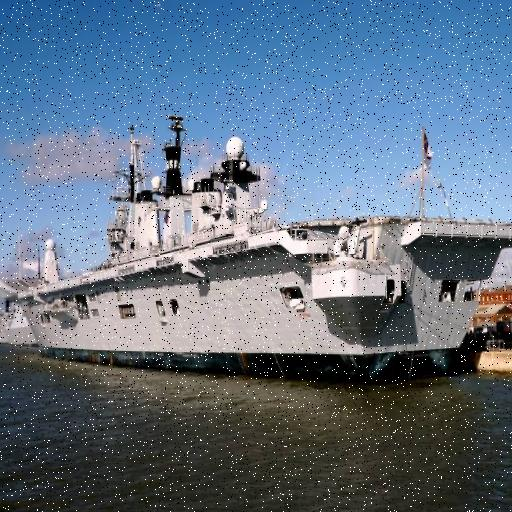Portanaves: (1, 105, 512, 392)
